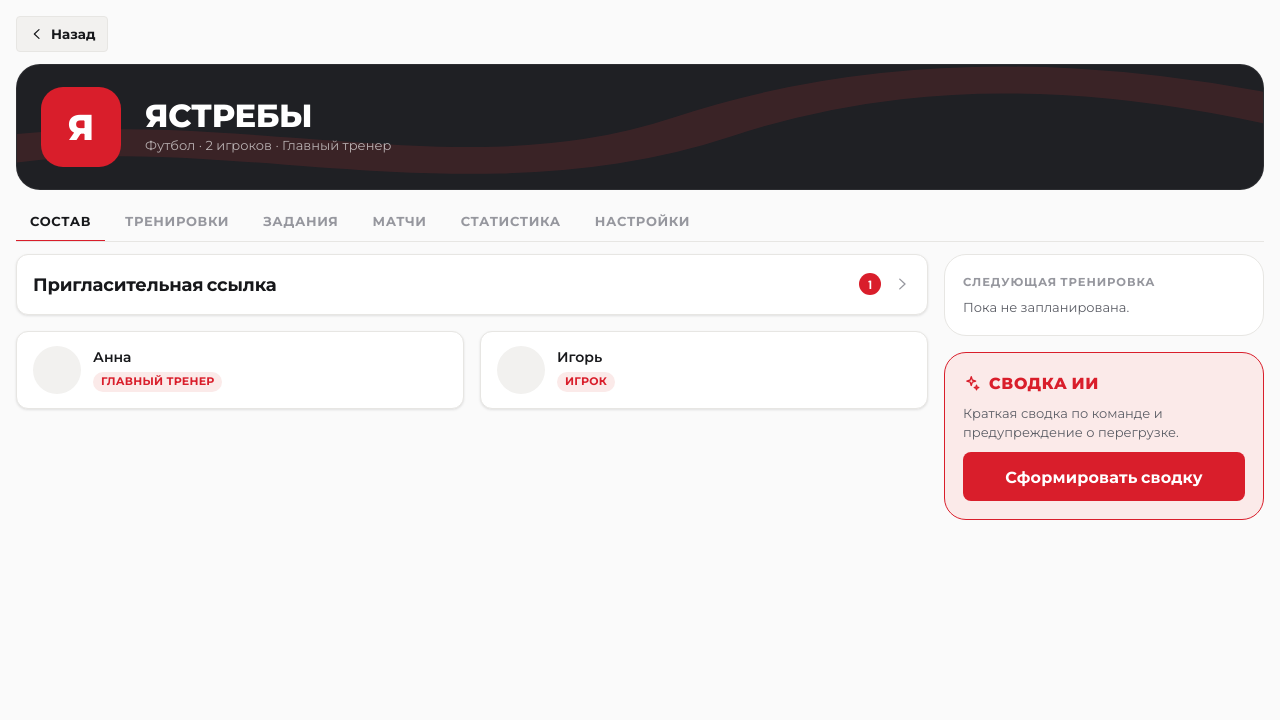
it: inviting players from the roster › join requests › rejects a request
Click the button "Пригласительная ссылка 1".
click(155, 284)  # box [33,271,911,298]
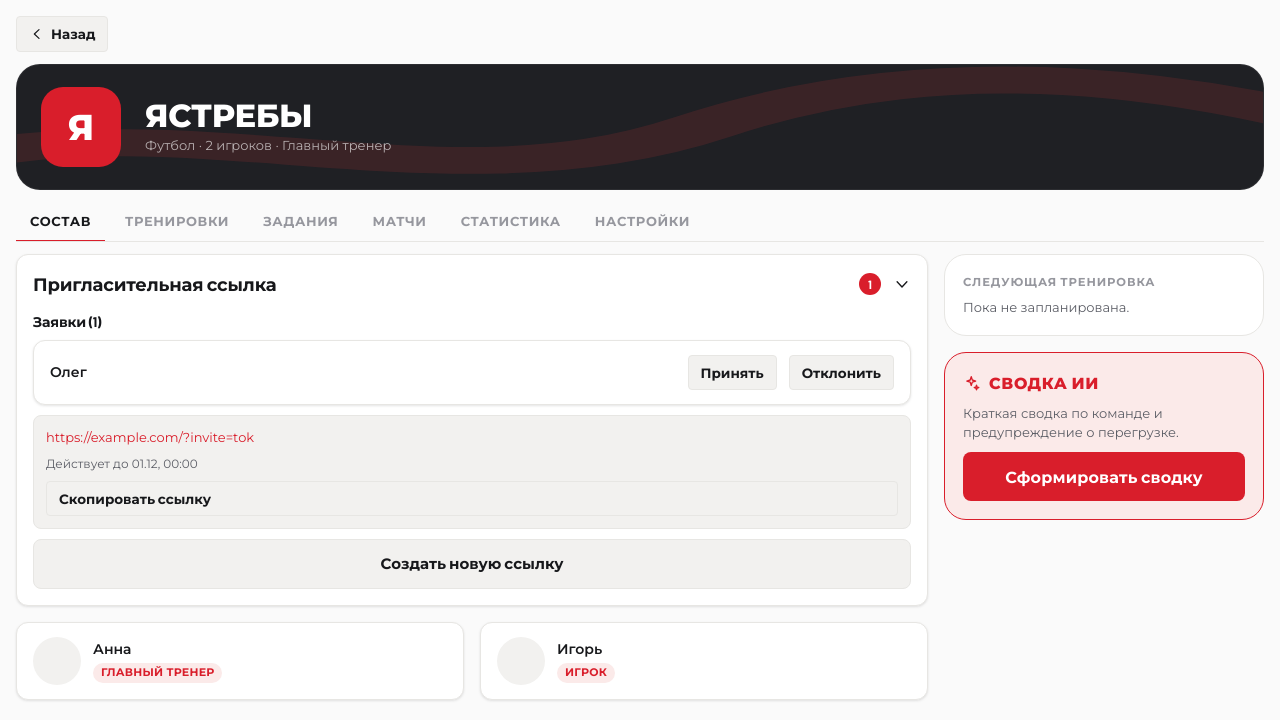
Click the button "Отклонить".
click(841, 373)  # box [789,355,894,390]
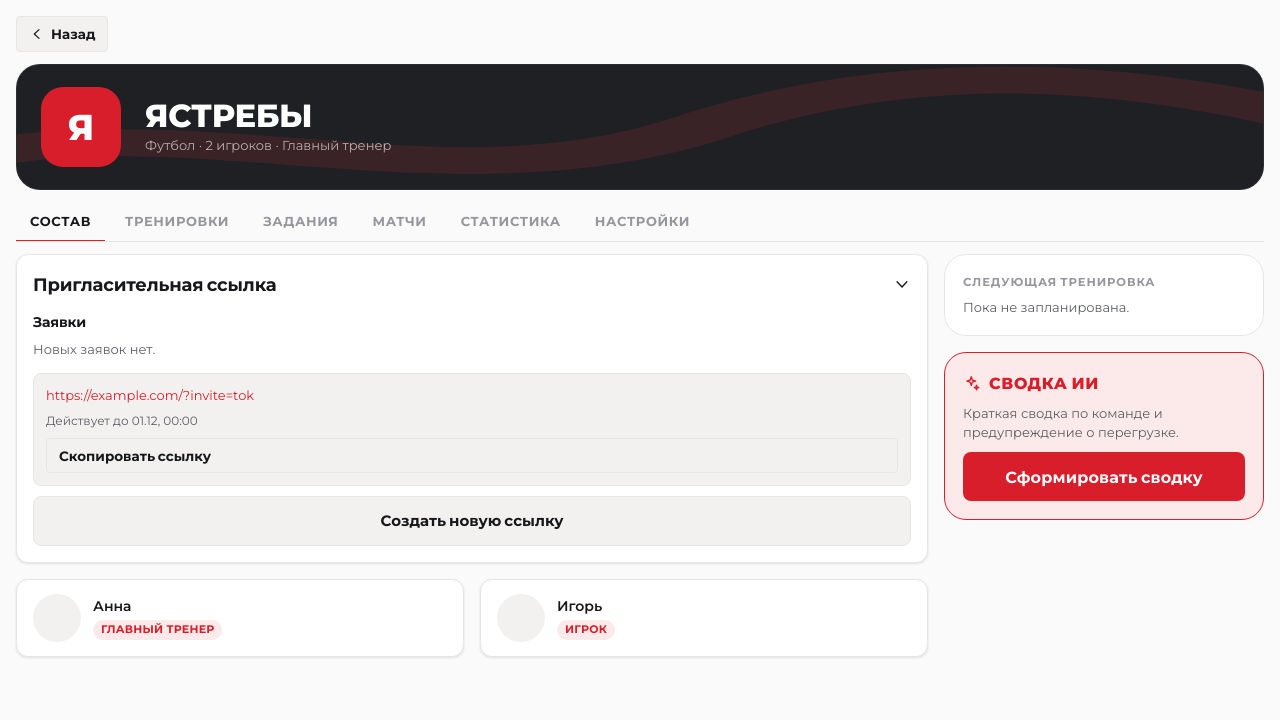
Check: the text "Новых заявок нет." is shown, box [33,341,155,357]
